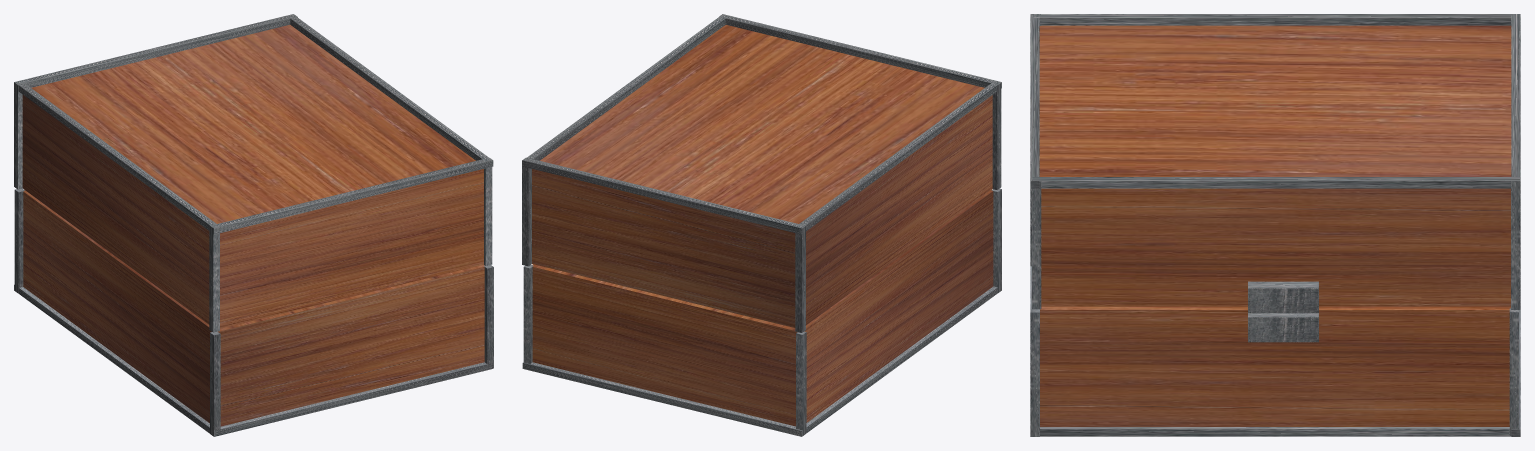
The model's file is cofre.obj.
3 renders of one model, left to right at view 1: azimuth 30°, elevation 25°; view 2: azimuth 150°, elevation 25°; view 3: azimuth 270°, elevation 25°, orthographic. The views are drawn at different scales.
Visible parts, largest first — view 1: tapa_cofre, cofre; view 2: tapa_cofre, cofre; view 3: tapa_cofre, cofre.
Part boxes in pixels (<box>): tapa_cofre: <box>14,14,493,332</box>; cofre: <box>14,188,493,436</box>; tapa_cofre: <box>522,14,1001,332</box>; cofre: <box>522,188,1001,436</box>; tapa_cofre: <box>1030,14,1520,313</box>; cofre: <box>1030,188,1520,436</box>.
Size of the model in its own units: 5.16 by 3.59 by 6.24.
